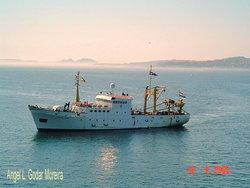otherboat: (26, 60, 193, 136)
